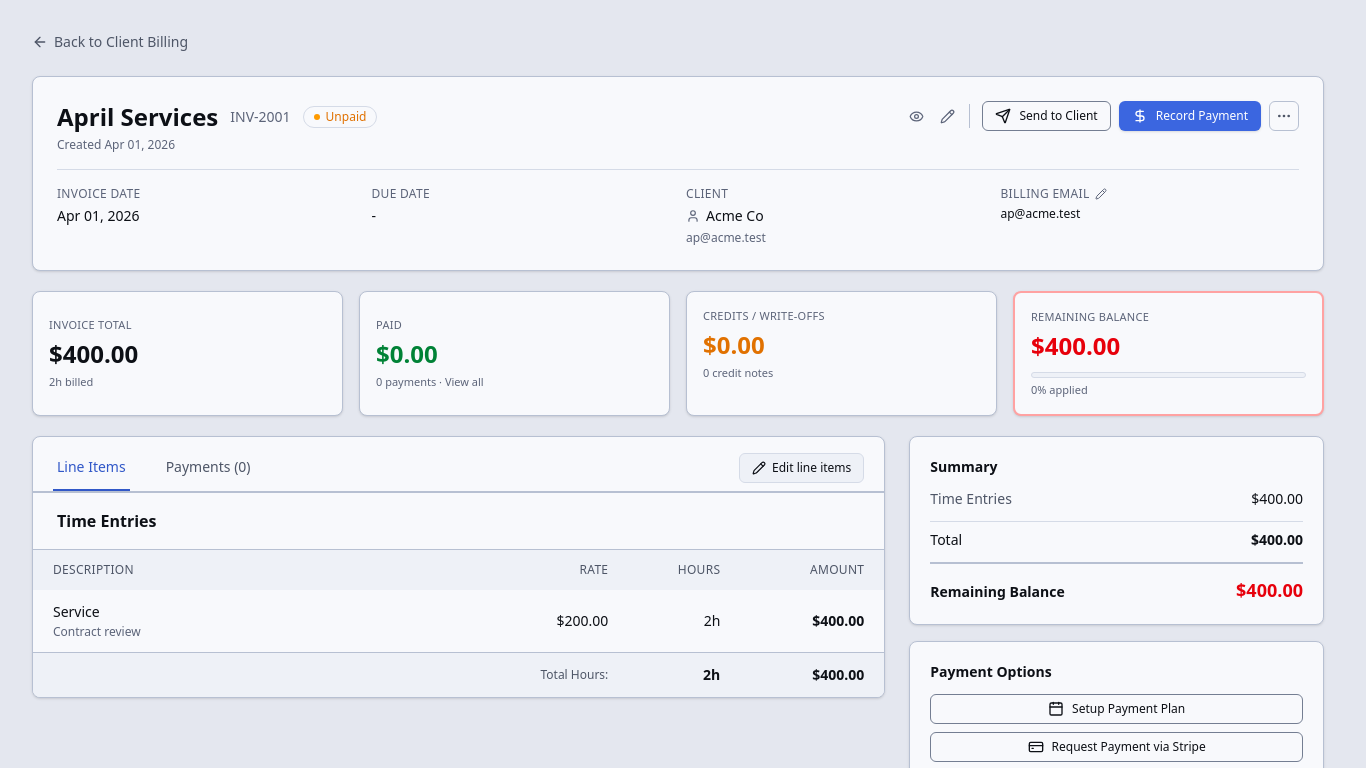
adding an amount to the invoice › keeps the dialog open and shows the server refusal when the add is rejected
Click the button named "More actions" at (1284, 116), box [1269, 101, 1299, 131]
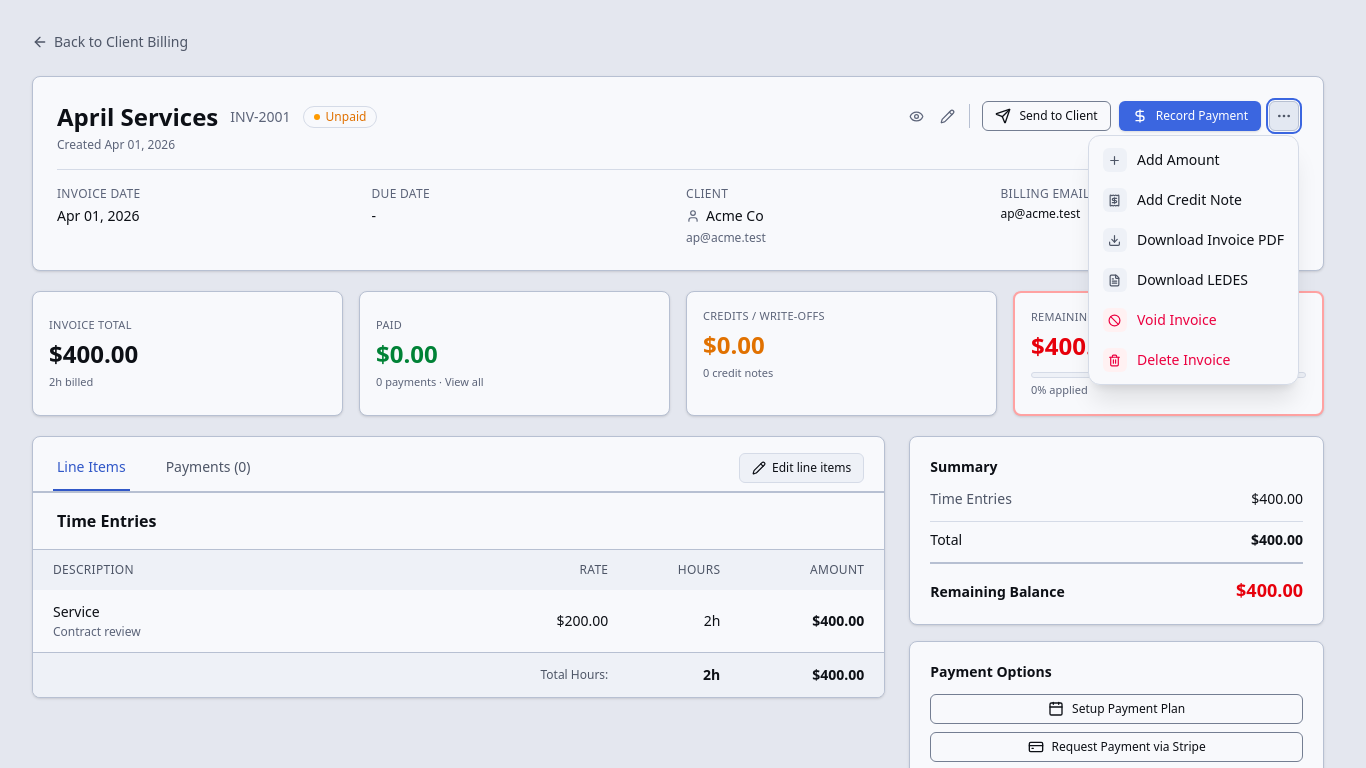
Click the button "Add Amount" at (1193, 160), box [1093, 140, 1294, 180]
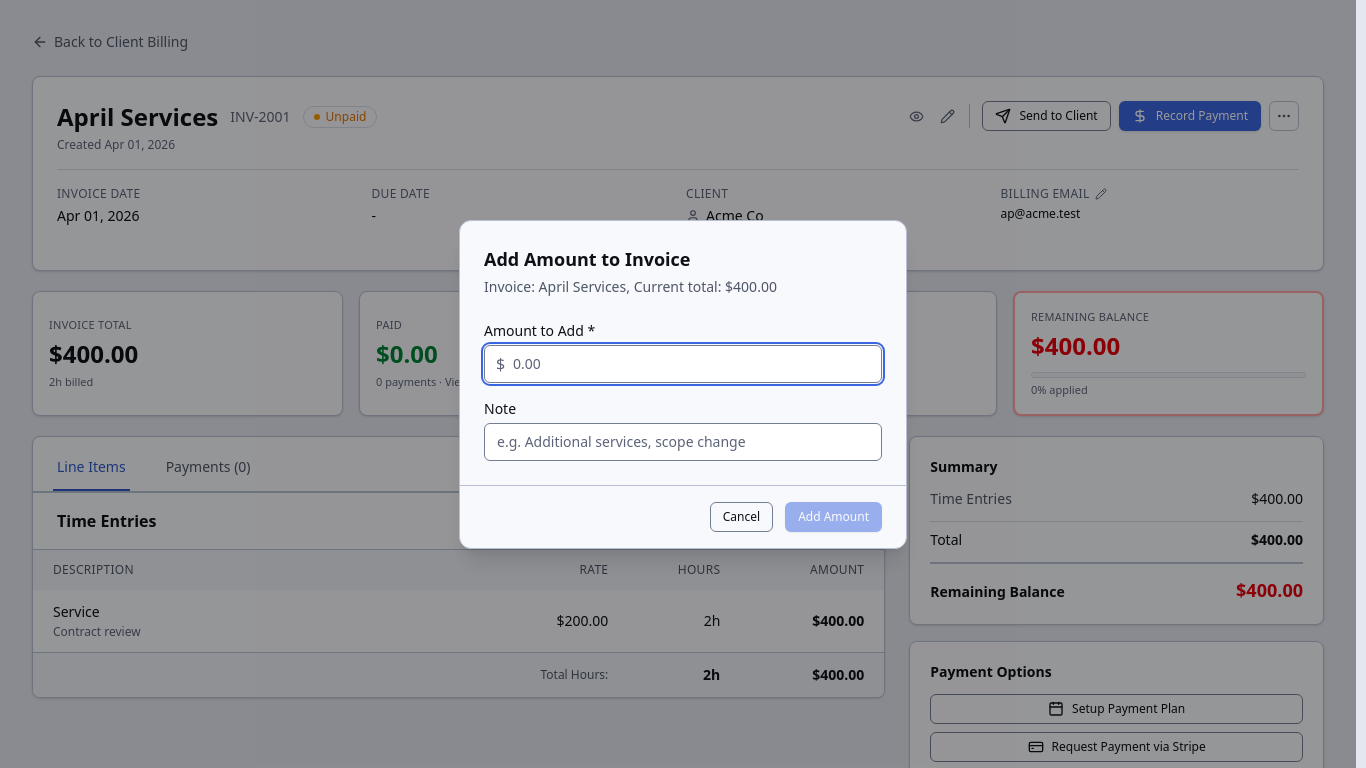
Type "10" into the number field with placeholder "0.00" at (683, 364), box [484, 344, 882, 382]
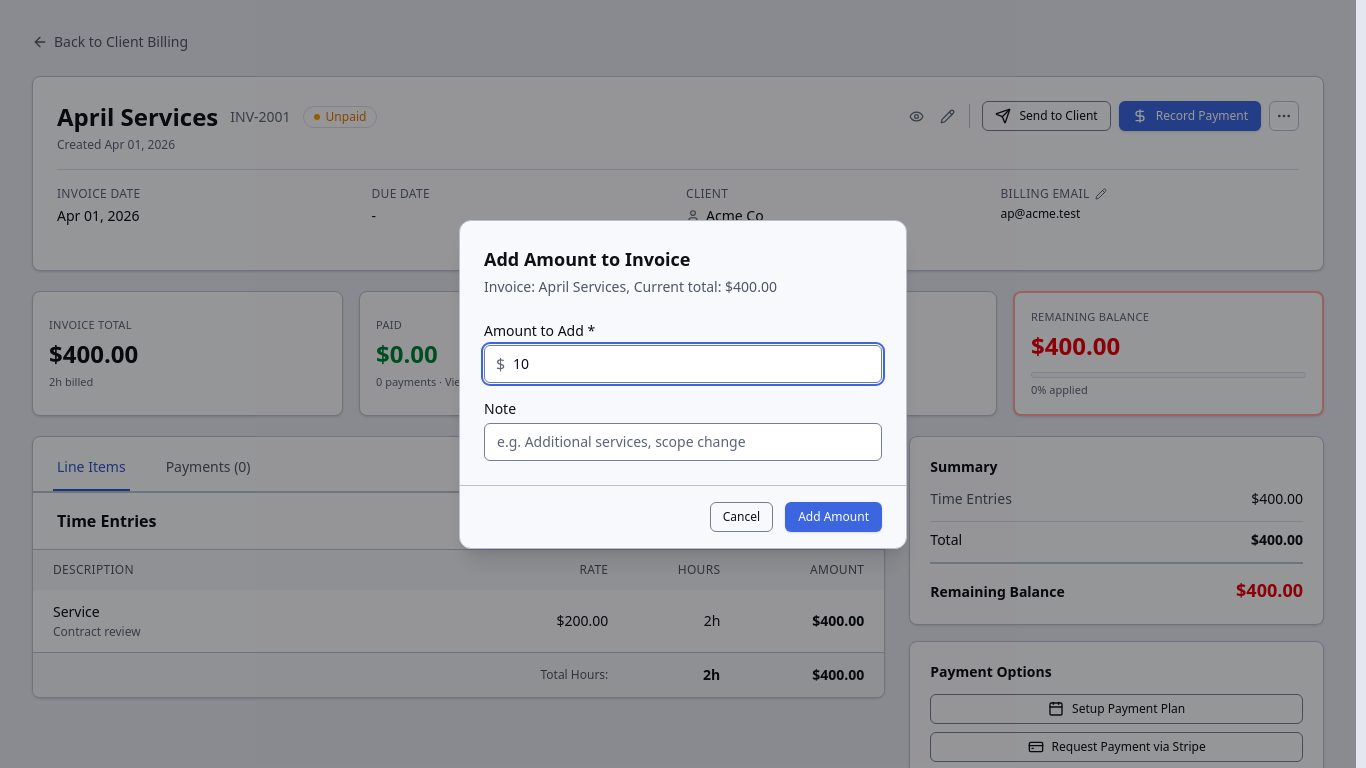
Click the button "Add Amount" at (834, 516), box [785, 502, 882, 532]
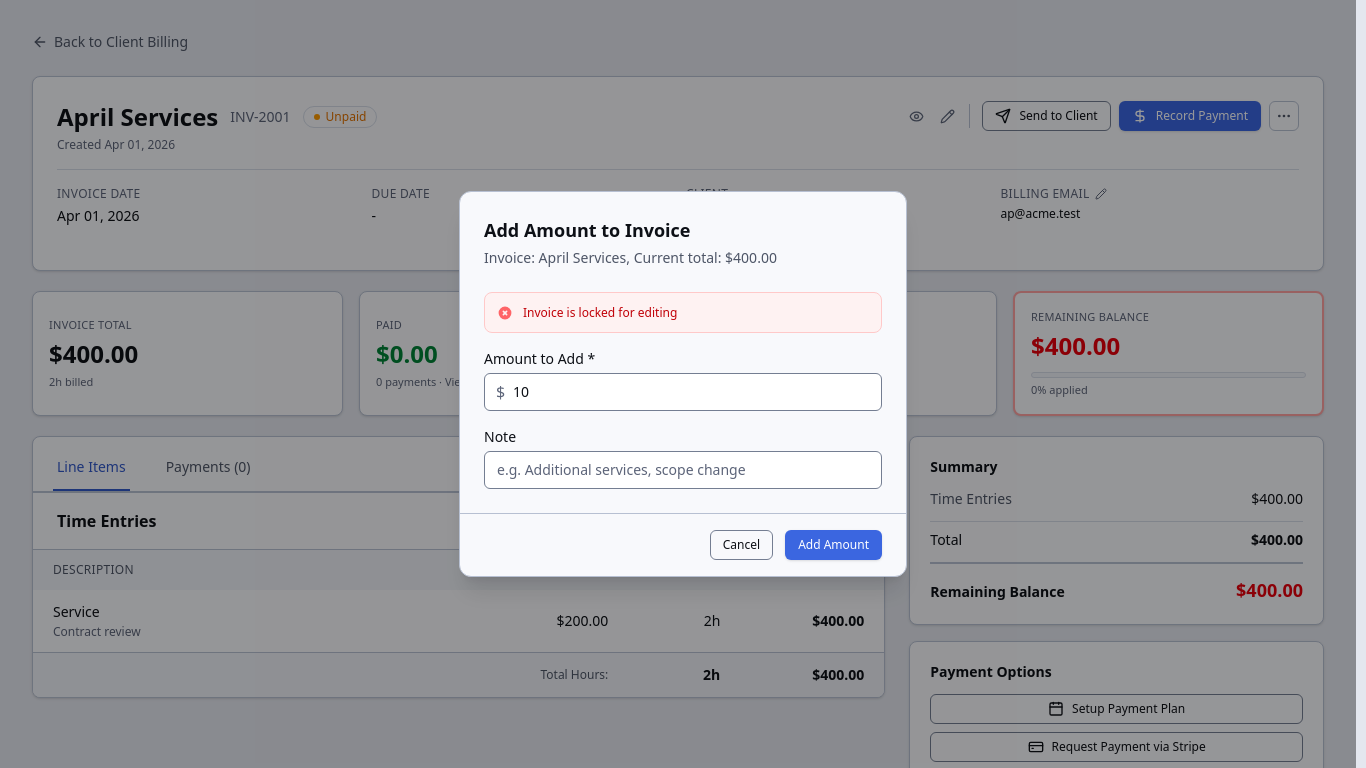
Expected: the heading "April Services" is shown, [57, 101, 218, 133]
Result: the dialog is shown at [459, 191, 907, 577]
Result: the text "Invoice is locked for editing" is shown at [523, 304, 677, 321]
